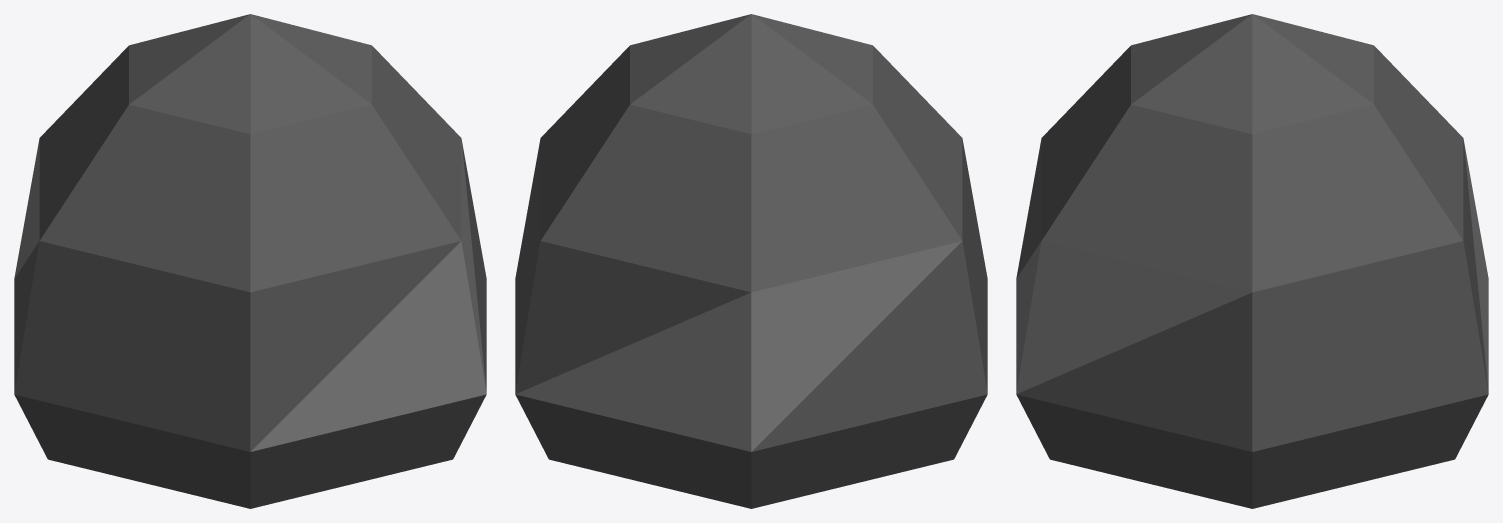
File: rock_2.fbx
3 renders of one model, left to right at view 1: azimuth 30°, elevation 25°; view 2: azimuth 150°, elevation 25°; view 3: azimuth 270°, elevation 25°, orthographic.
Parts seen in each view (by area): view 1: rock_2; view 2: rock_2; view 3: rock_2.
Part boxes in pixels (x1=…): rock_2: x1=14, y1=14, x2=486, y2=508; rock_2: x1=515, y1=14, x2=987, y2=508; rock_2: x1=1016, y1=14, x2=1488, y2=508.
Size of the model in its own units: 64.76 by 51.88 by 56.08.
